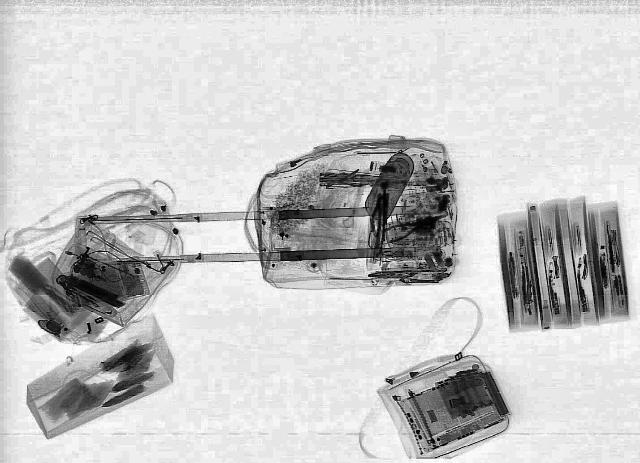Pliers: (376, 208, 452, 244)
